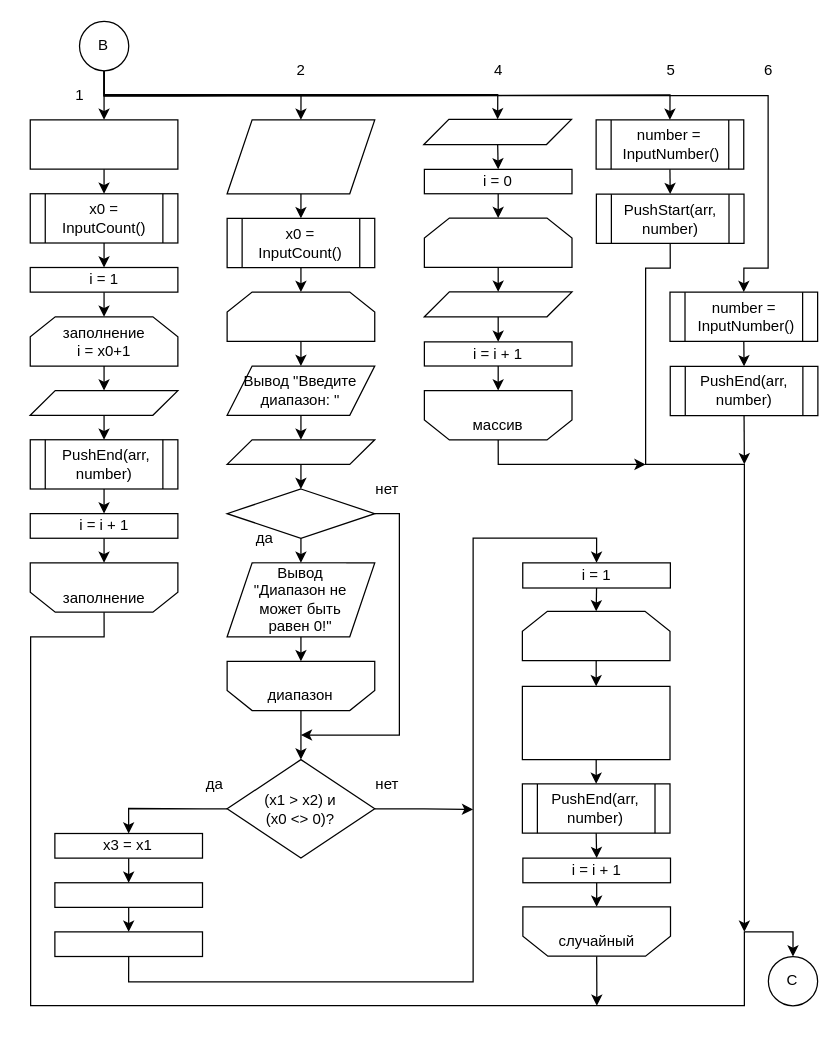
The diagram is 840 pixels wide and 1039 high, and some of its shapes have lost their labels. Here are the shapes that lost their labels. From the top down, the box of each, then its label:
(29, 119, 178, 169): установить размер массива в 0
(423, 118, 572, 144): Вывод "Массив: "
(226, 119, 375, 194): Вывод "Генерация N натуральных элементов"
(423, 217, 572, 267): массив i = длинна
(226, 291, 375, 341): диапазон x0 = 0
(423, 291, 572, 317): Вывод arr[i], " "
(29, 389, 178, 415): Ввод number
(226, 438, 375, 464): Ввод x1, x2
(226, 488, 375, 538): x1 = x2?
(521, 610, 670, 661): случайный i = x0+1
(521, 685, 670, 760): записать в number случайное число от x1 до ч2
(54, 882, 202, 907): x1 = x2
(54, 931, 202, 956): x2 = x3
